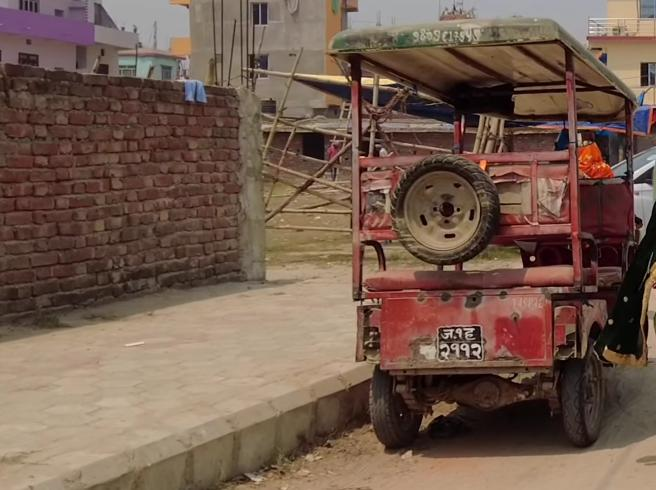e-rickshaw: (325, 16, 647, 454)
